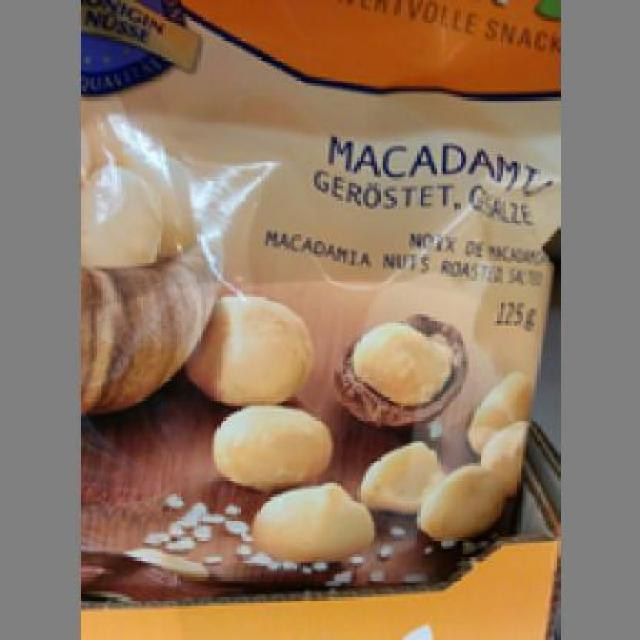Nuts: (77, 0, 554, 597)
